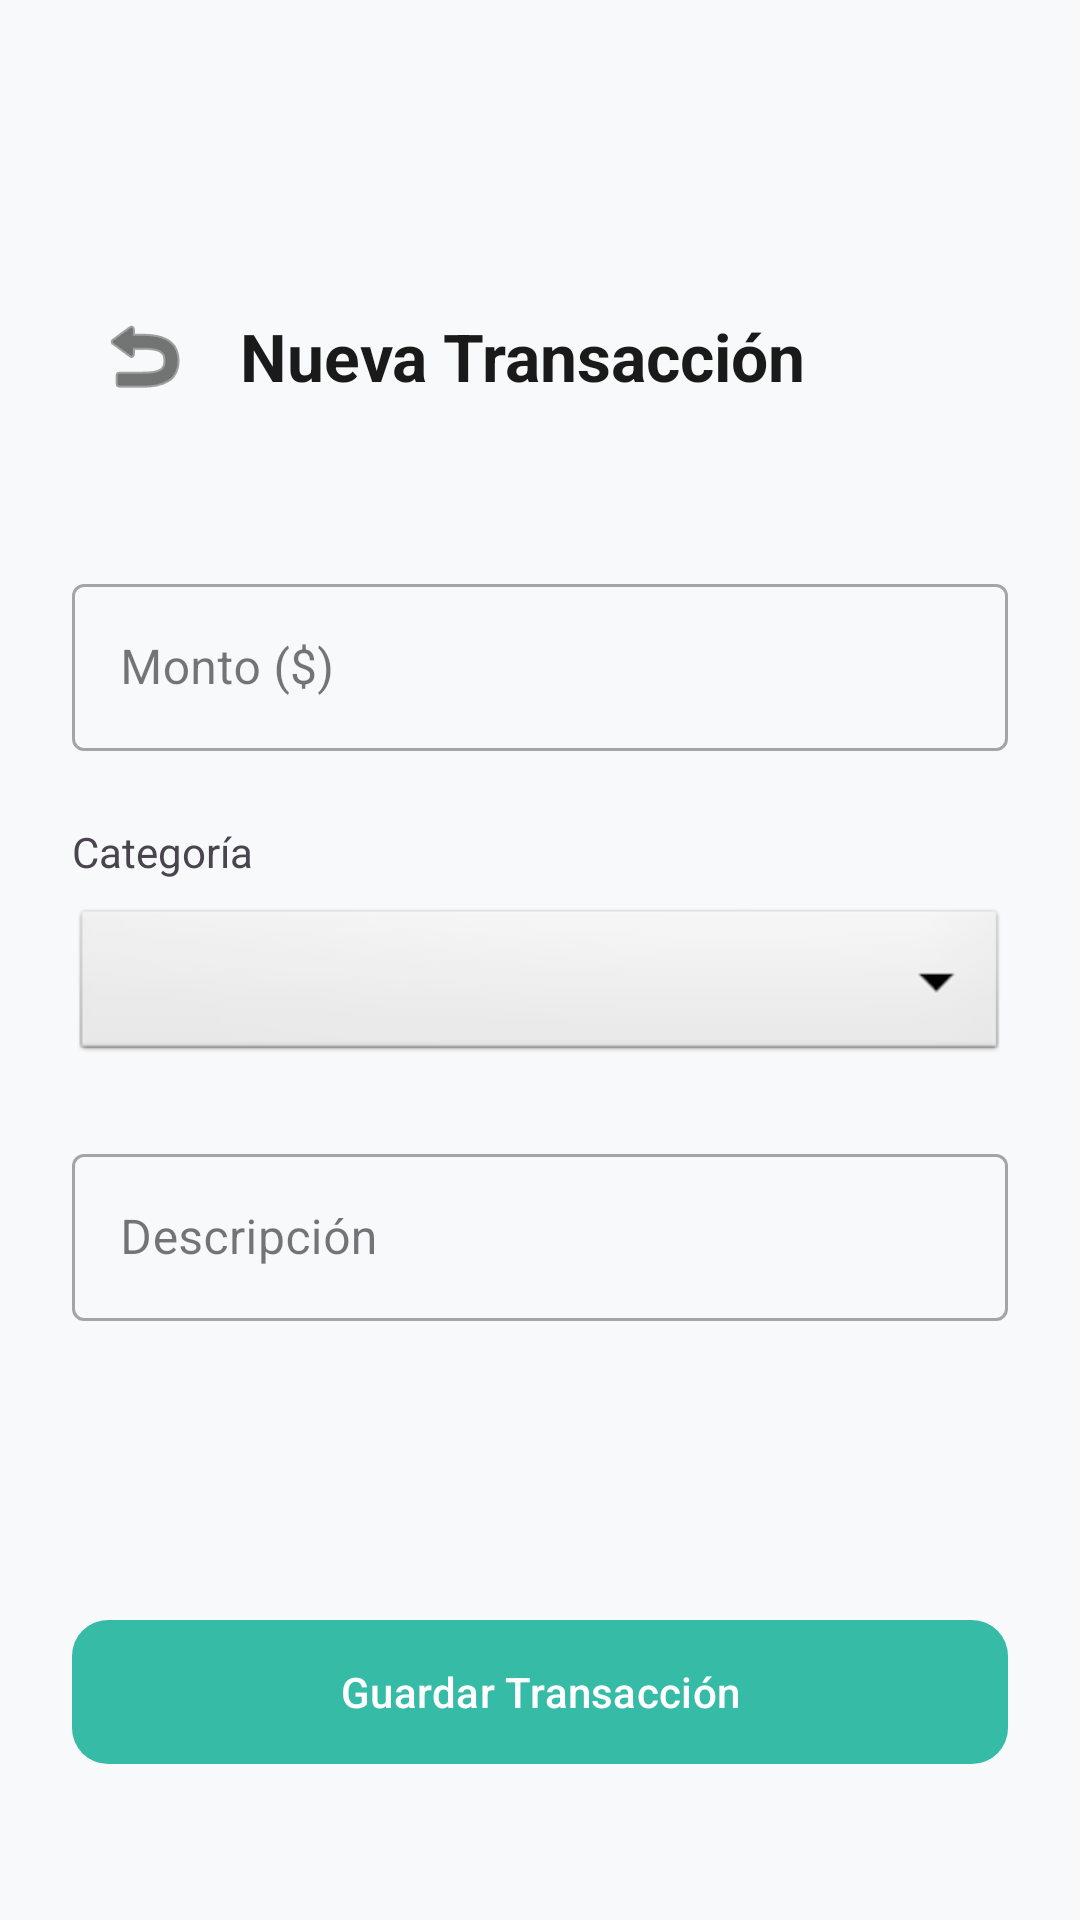

Icons on this 1080×1920 Android screen, each with the point to tap as (x=x, y=y):
Regresar: (x=145, y=356)
